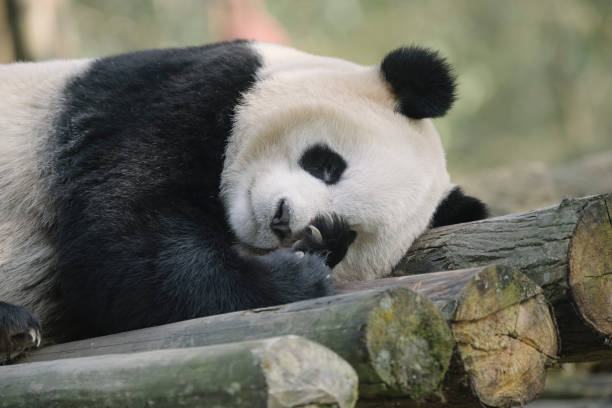panda: (156, 23, 483, 309)
